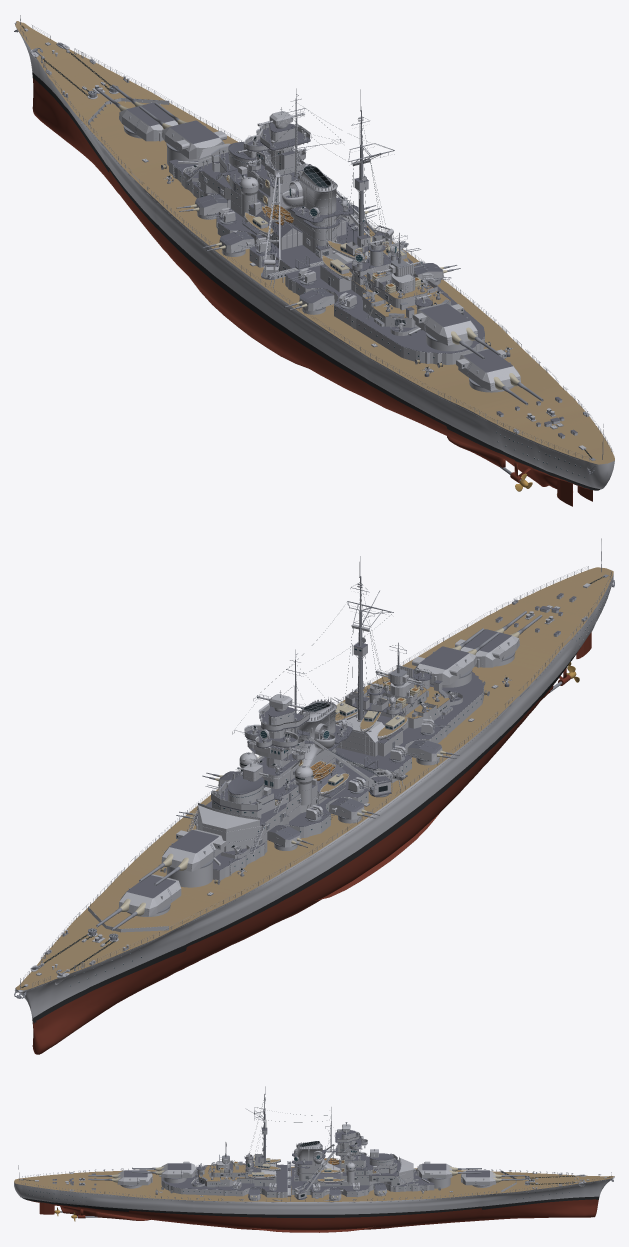
Rendered from bismarck.glb.
The picture shows the model from 3 angles, top to bottom: view 1: azimuth 30°, elevation 25°; view 2: azimuth 150°, elevation 25°; view 3: azimuth 270°, elevation 25°; orthographic projection. The views are drawn at different scales.
Parts seen in each view (by area): view 1: Independently lofted hull, superstructure.mesh.001, superstructure.mesh, superstructure-superstructure-platform.mesh, hull-underwater.mesh, caesar.yaw.mesh, dora.yaw.mesh, superstructure-funnel-jacket.mesh, bruno.yaw.mesh, anton.yaw.mesh, superstructure-aft-battery-deck.mesh, superstructure-hangar-port.mesh (+1 smaller); view 2: Independently lofted hull, superstructure.mesh.001, superstructure.mesh, superstructure-superstructure-platform.mesh, bruno.yaw.mesh, anton.yaw.mesh, caesar.yaw.mesh, dora.yaw.mesh, superstructure-funnel-jacket.mesh, hull-underwater.mesh, superstructure-forward-shelter-deck.mesh, superstructure-navigation-roof.mesh (+2 smaller); view 3: Independently lofted hull, superstructure.mesh.001, superstructure.mesh, superstructure-superstructure-platform.mesh, hull-underwater.mesh, superstructure-funnel-jacket.mesh, bruno.yaw.mesh, caesar.yaw.mesh, dora.yaw.mesh, anton.yaw.mesh, superstructure-aft-battery-deck.mesh, superstructure-forward-shelter-deck.mesh (+3 smaller).
Boxes of the visible parts, x1,y1,x2,y2 form: Independently lofted hull: [14, 21, 614, 490]; superstructure.mesh.001: [14, 15, 612, 477]; superstructure.mesh: [88, 98, 484, 353]; superstructure-superstructure-platform.mesh: [169, 162, 484, 364]; hull-underwater.mesh: [188, 276, 592, 506]; caesar.yaw.mesh: [413, 303, 477, 345]; dora.yaw.mesh: [456, 348, 520, 390]; superstructure-funnel-jacket.mesh: [285, 171, 336, 239]; bruno.yaw.mesh: [162, 120, 226, 159]; anton.yaw.mesh: [119, 102, 178, 141]; superstructure-aft-battery-deck.mesh: [351, 280, 450, 327]; superstructure-hangar-port.mesh: [255, 211, 302, 249]; Independently lofted hull: [15, 567, 613, 1054]; superstructure.mesh.001: [14, 538, 614, 998]; superstructure.mesh: [88, 669, 483, 932]; superstructure-superstructure-platform.mesh: [213, 686, 483, 880]; bruno.yaw.mesh: [161, 829, 226, 871]; anton.yaw.mesh: [118, 874, 181, 916]; caesar.yaw.mesh: [412, 646, 476, 684]; dora.yaw.mesh: [455, 629, 519, 667]; superstructure-funnel-jacket.mesh: [298, 701, 336, 766]; hull-underwater.mesh: [315, 632, 591, 900]; superstructure-forward-shelter-deck.mesh: [198, 784, 317, 842]; superstructure-navigation-roof.mesh: [198, 805, 259, 832]; Independently lofted hull: [14, 1166, 614, 1230]; superstructure.mesh.001: [18, 1086, 613, 1202]; superstructure.mesh: [161, 1129, 516, 1192]; superstructure-superstructure-platform.mesh: [161, 1179, 434, 1197]; hull-underwater.mesh: [39, 1202, 375, 1232]; superstructure-funnel-jacket.mesh: [296, 1143, 340, 1173]; bruno.yaw.mesh: [417, 1161, 452, 1178]; caesar.yaw.mesh: [161, 1161, 196, 1177]; dora.yaw.mesh: [117, 1169, 152, 1185]; anton.yaw.mesh: [461, 1170, 496, 1185]; superstructure-aft-battery-deck.mesh: [199, 1165, 254, 1186]; superstructure-forward-shelter-deck.mesh: [340, 1171, 413, 1181].
Bounding box in the file's own units: 42.52 × 61.48 × 250.
14 materials, 9 textured.
